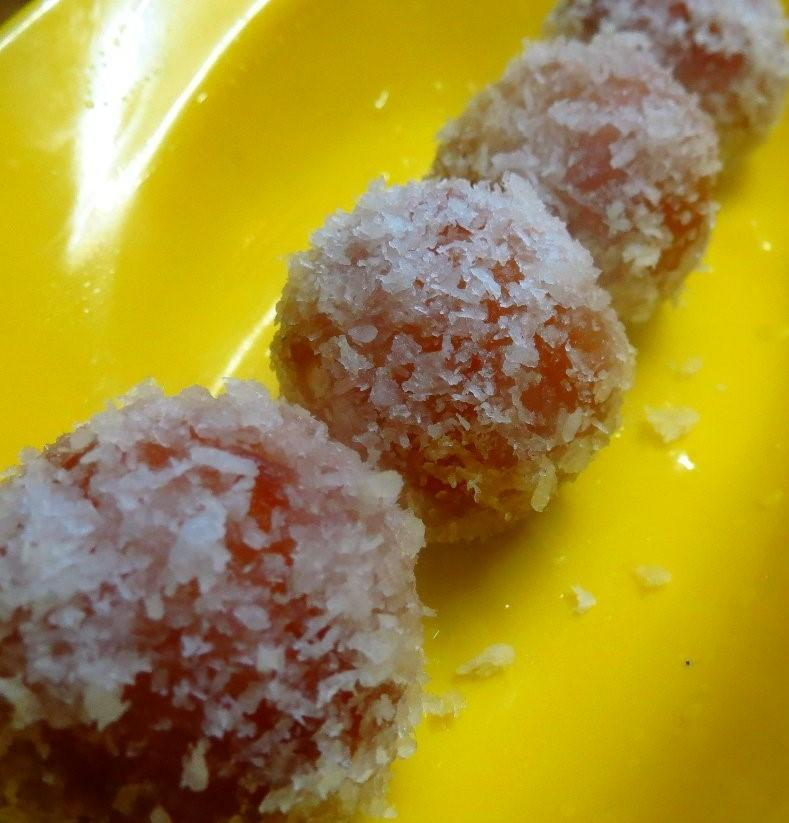GulabJamun: (5, 375, 430, 823), (267, 174, 638, 544), (443, 36, 712, 328), (531, 2, 789, 142)
